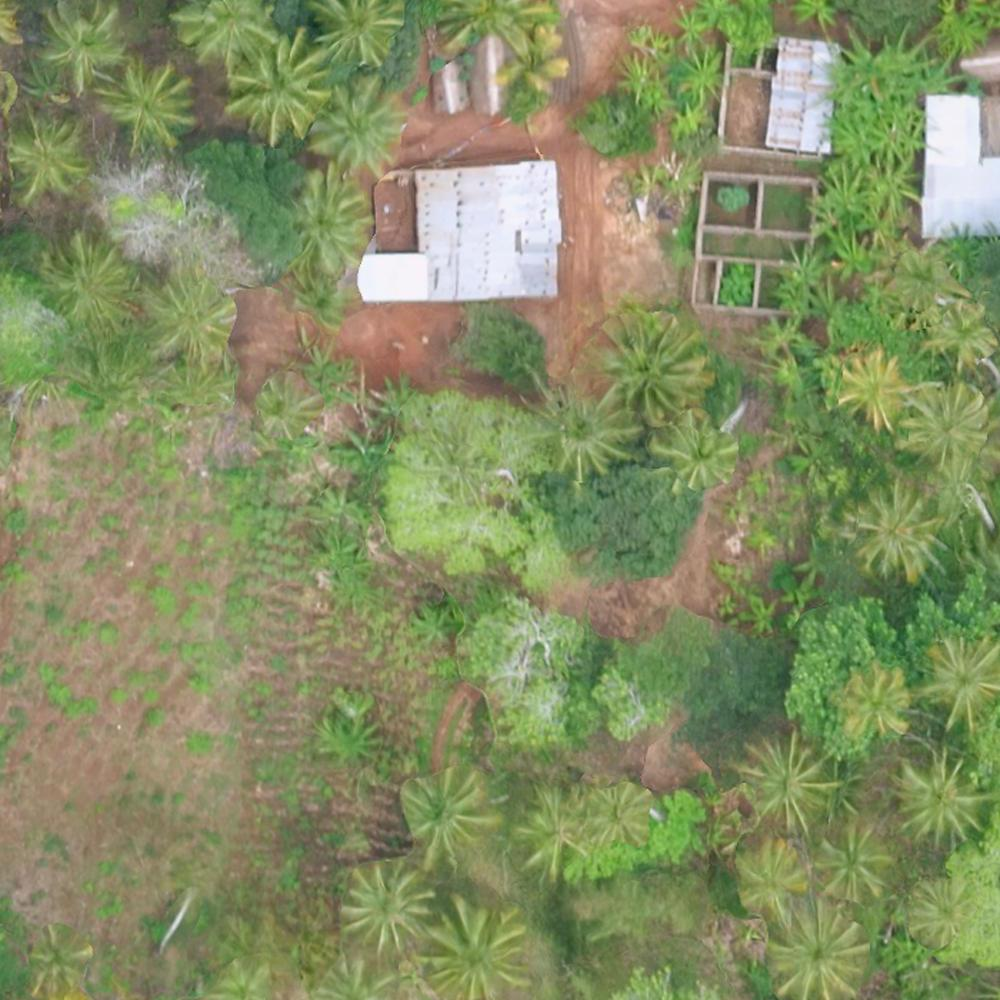Palm: (596, 313, 704, 416), (426, 894, 529, 1000), (737, 732, 844, 830), (224, 36, 325, 139), (288, 163, 371, 281), (771, 900, 869, 999), (845, 483, 943, 581), (530, 382, 633, 474), (42, 232, 135, 332), (137, 263, 234, 358), (887, 755, 990, 843), (98, 61, 197, 152), (340, 863, 434, 955), (897, 380, 987, 475), (317, 75, 408, 168), (405, 774, 500, 862), (918, 632, 1000, 730), (5, 108, 90, 200), (38, 1, 129, 83), (654, 414, 742, 496), (174, 1, 280, 68), (306, 1, 410, 66), (512, 790, 590, 874), (816, 823, 893, 905), (730, 832, 805, 916), (832, 348, 910, 426), (838, 664, 912, 741), (593, 782, 658, 851)
